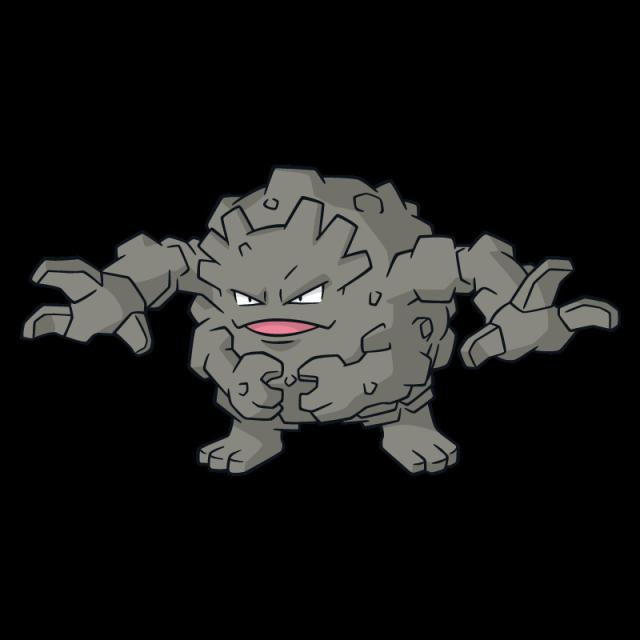Graveler: (144, 152, 526, 450)
